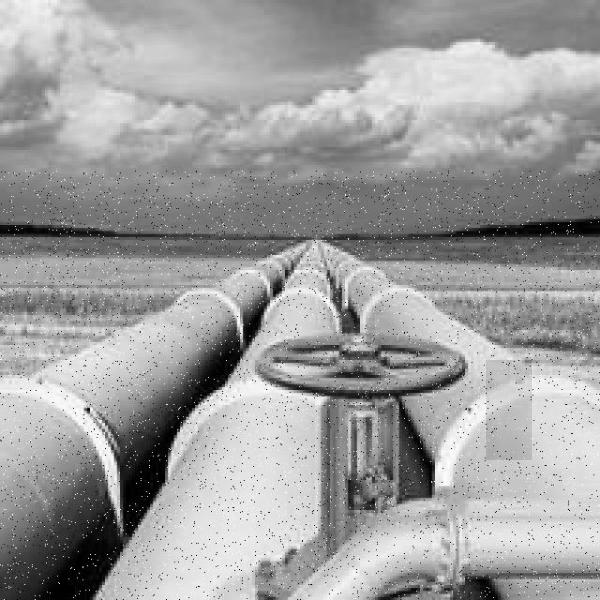no leak: (486, 360, 532, 460)
